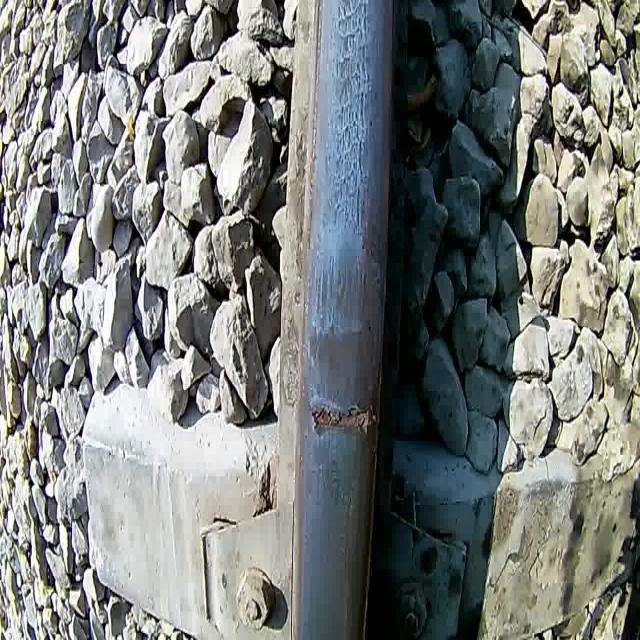Squats: (321, 0, 380, 233), (304, 237, 383, 410), (302, 390, 390, 445)
